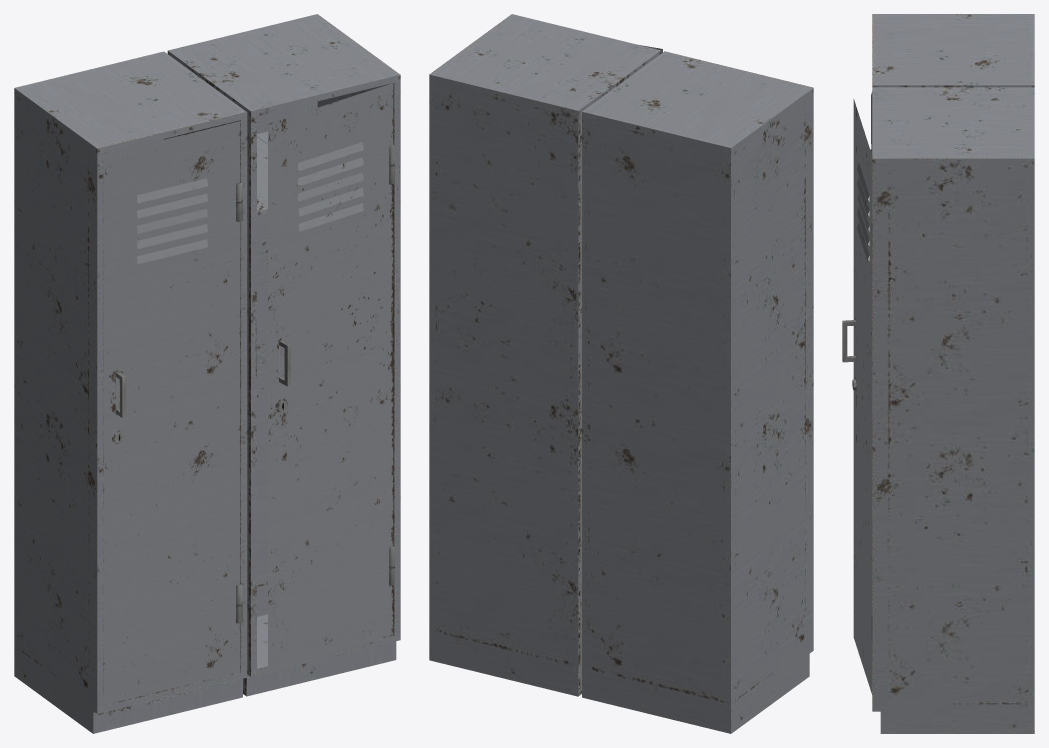
Rendered from metal_cabinet_a1.obj.
The picture shows the model from 3 angles, left to right: view 1: azimuth 30°, elevation 25°; view 2: azimuth 150°, elevation 25°; view 3: azimuth 270°, elevation 25°; orthographic projection. The views are drawn at different scales.
Parts seen in each view (by area): view 1: defaultMaterial.002; view 2: defaultMaterial.002; view 3: defaultMaterial.002.
Boxes of the visible parts, x1,y1,x2,y2 form: defaultMaterial.002: [14, 14, 400, 733]; defaultMaterial.002: [429, 14, 813, 733]; defaultMaterial.002: [842, 14, 1034, 733].
Bounding box in the file's own units: 9.32 × 17.28 × 5.24.
